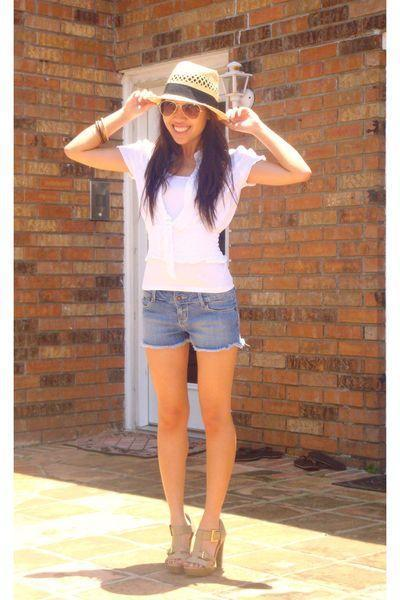hat: (134, 60, 224, 112)
shirt: (117, 138, 265, 292)
shoe: (167, 548, 227, 587)
shorts: (143, 287, 240, 354)
sunglass: (158, 99, 176, 131)
